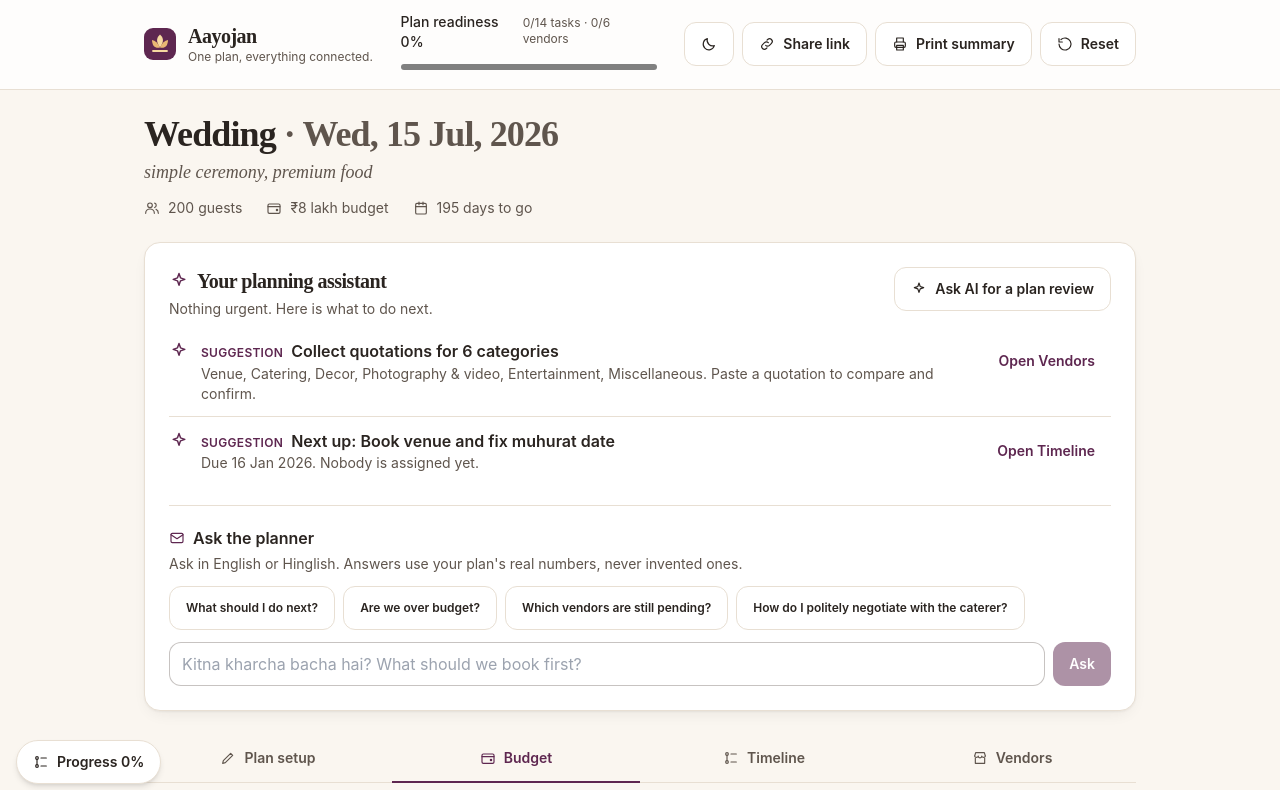
Scenario: timeline › groups tasks into phases and shows dependency chips
Click the tab "Timeline" at (764, 759), box 640,735 -> 888,783
(page scrolled)
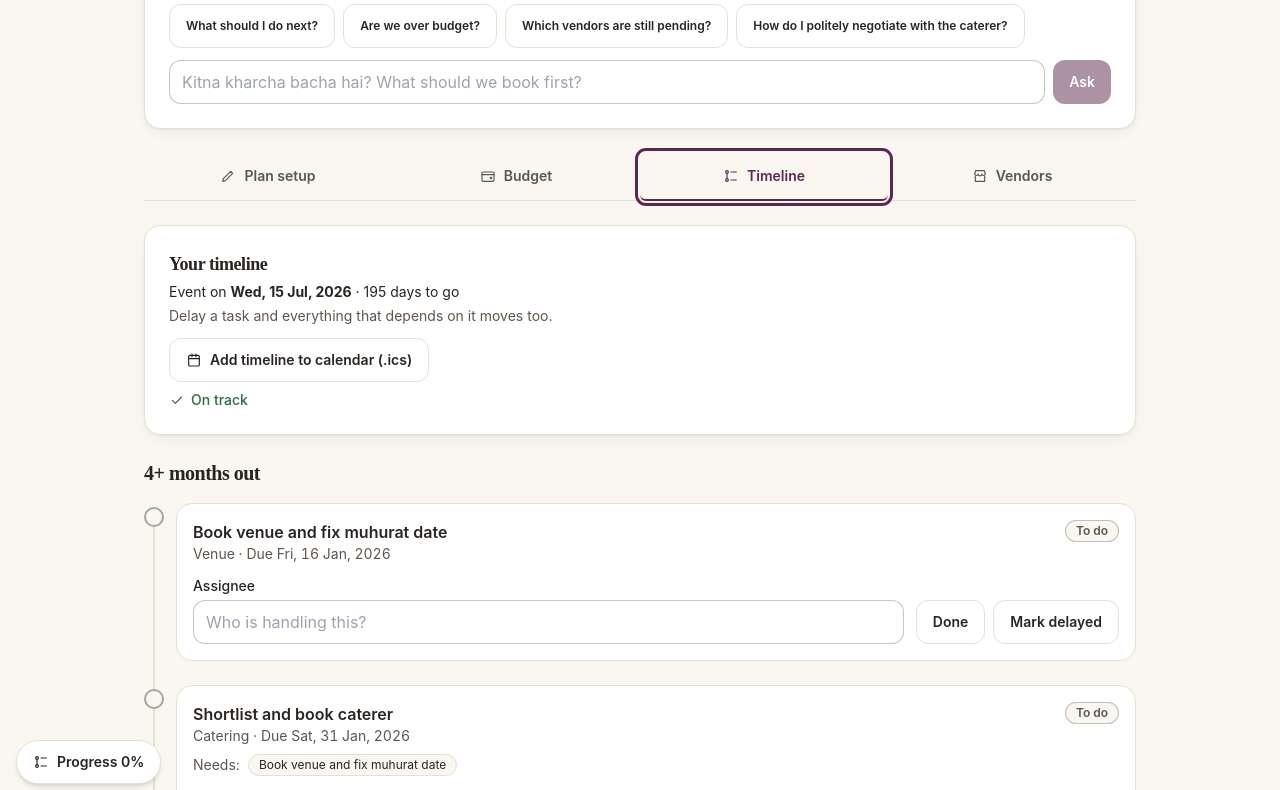
expect the heading "4+ months out" is shown: met, box 144,462 -> 260,484
expect the text "Book venue and fix muhurat date" is shown: met, box 248,754 -> 457,776
expect the text "On track" is shown: met, box 169,391 -> 248,408
